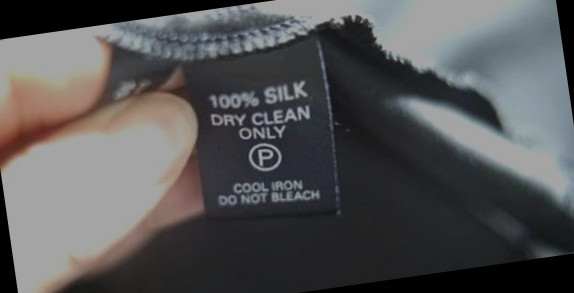dry_clean_any_solvent_except_trichloroethylene: (247, 139, 285, 173)
